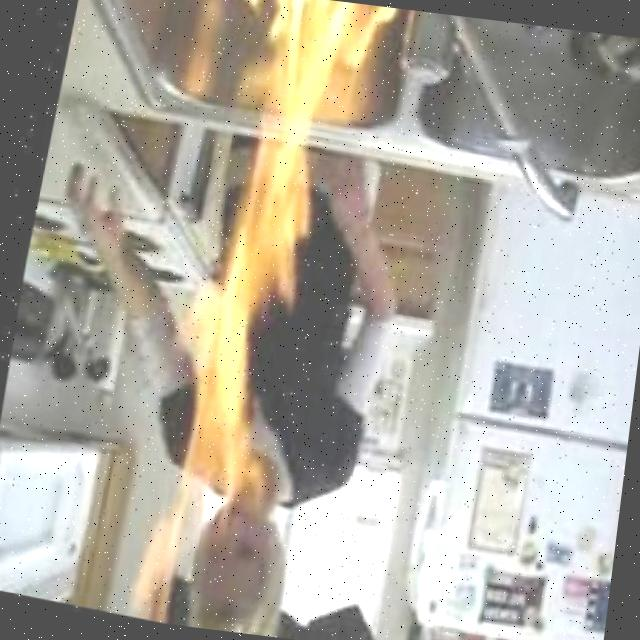fire: (132, 0, 417, 533)
